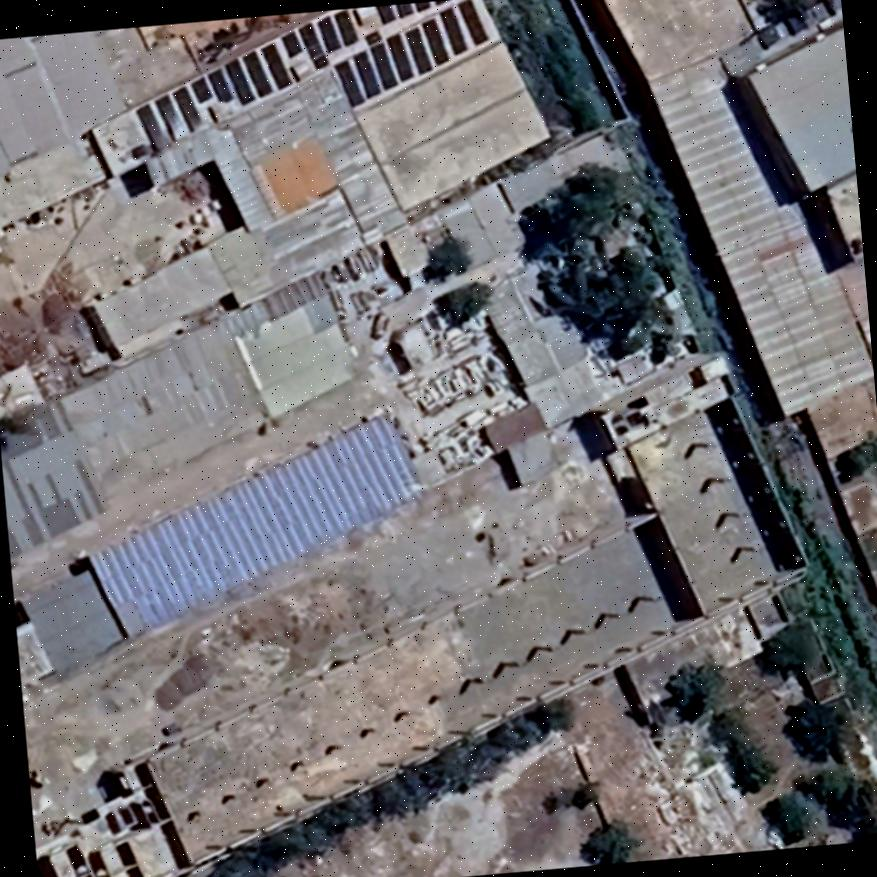Solarpanel: (101, 0, 494, 179)
